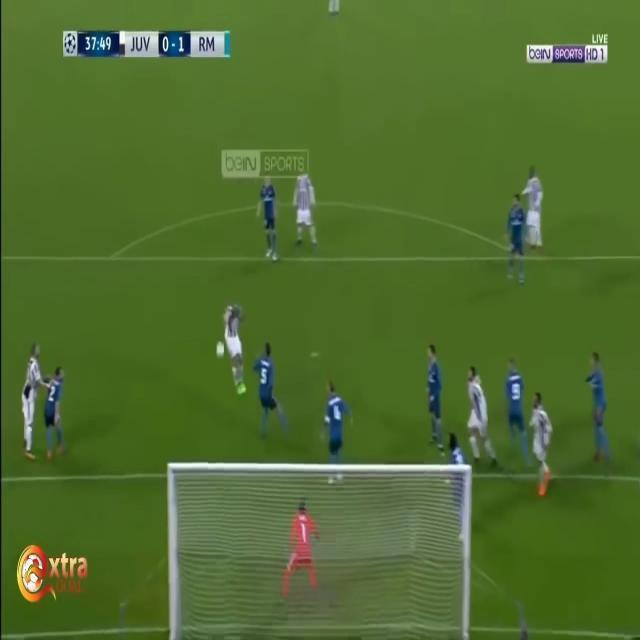ball: (213, 334, 227, 364)
goalkeeper: (281, 490, 323, 610)
player: (580, 343, 618, 468), (462, 359, 500, 478), (418, 338, 448, 455), (321, 377, 352, 485), (528, 386, 559, 493), (16, 342, 43, 464), (41, 359, 68, 466), (254, 337, 282, 440), (503, 186, 531, 288), (292, 164, 322, 259), (501, 348, 526, 461), (221, 298, 250, 395), (254, 172, 284, 265), (523, 166, 549, 260), (215, 307, 234, 391)
